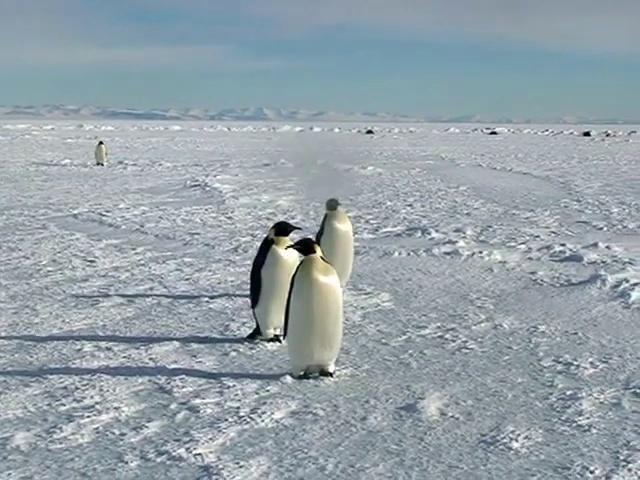animal: (316, 199, 355, 288)
